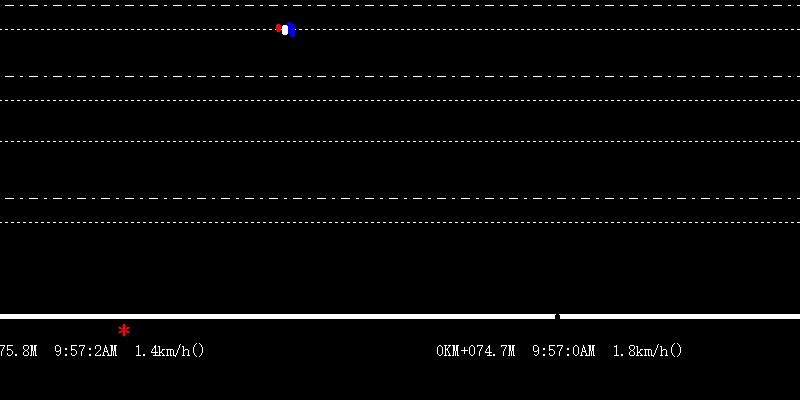face_1: (273, 22, 283, 35)
face_2: (282, 19, 296, 41)
star: (116, 325, 130, 338)
